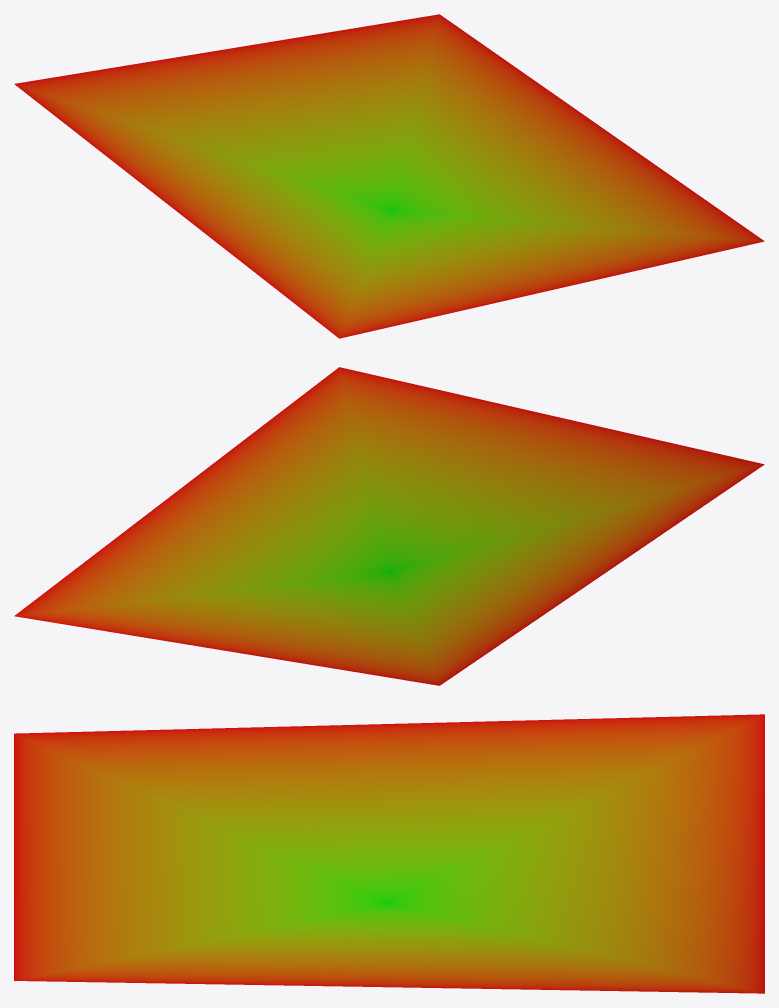
File: Mile-a-minute Vine_LOD3_Var9_sfqns.fbx
3 views of the same model, one above another, from view 1: azimuth 30°, elevation 25°; view 2: azimuth 150°, elevation 25°; view 3: azimuth 270°, elevation 25° (orthographic). The views are drawn at different scales.
Parts seen in each view (by area): view 1: _bb98_Var9_LOD3; view 2: _bb98_Var9_LOD3; view 3: _bb98_Var9_LOD3.
Part boxes in pixels (box(x1,y1,x2,y2)): _bb98_Var9_LOD3: box(14, 14, 764, 338); _bb98_Var9_LOD3: box(14, 367, 764, 685); _bb98_Var9_LOD3: box(14, 714, 764, 993).
Bounding box in the file's own units: 9.91 × 1.31 × 13.12.
